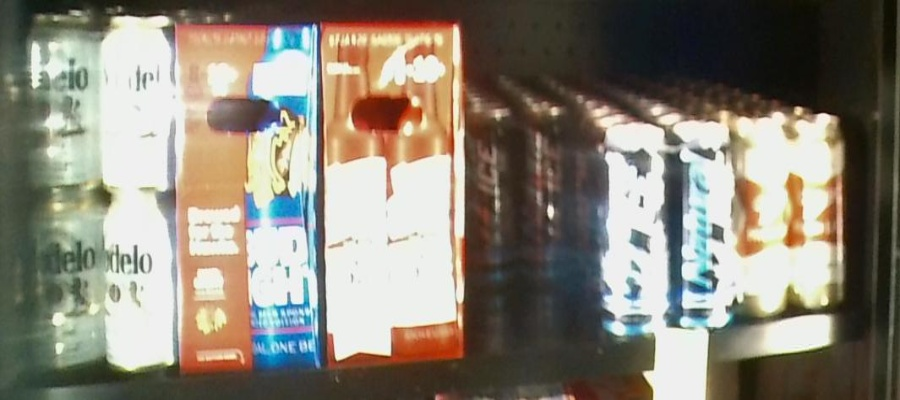bottle: (22, 11, 173, 373), (175, 18, 318, 372), (319, 20, 464, 367), (604, 130, 733, 335), (734, 125, 849, 312), (471, 112, 564, 283)
